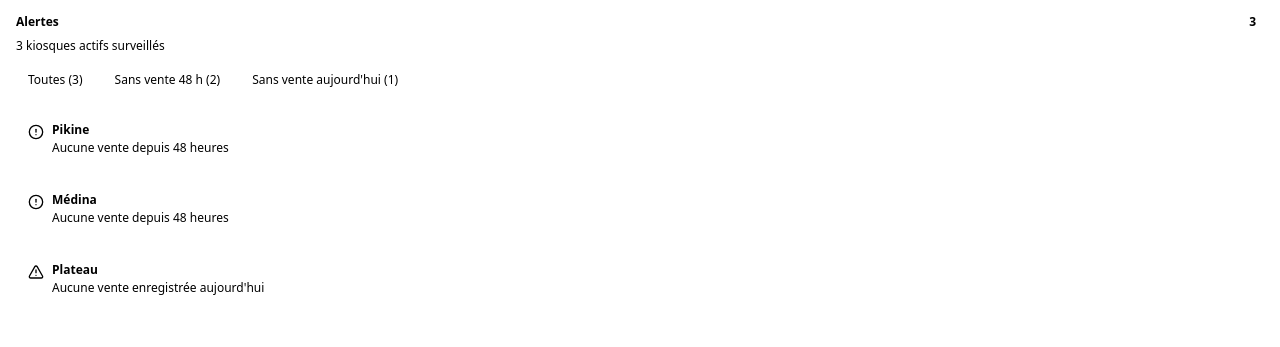
it: AlertsPanel › filtre par règle existante
expect the number of list items is 3: met, box [15,121,229,190]; [15,191,229,260]; [15,261,264,330]
Click the button "Sans vente aujourd'hui (1)" at (325, 80), box [240,62,410,98]
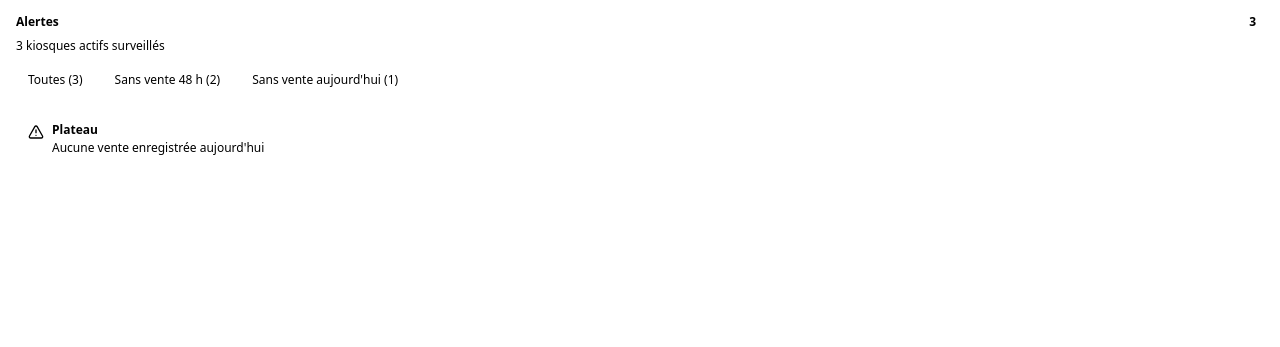
expect the list item shows "Plateau": met, box [16,110,1264,168]
expect the number of list items is 1: met, box [15,121,264,190]
Click the button "Sans vente 48 h (2)" at (167, 80), box [103,62,232,98]
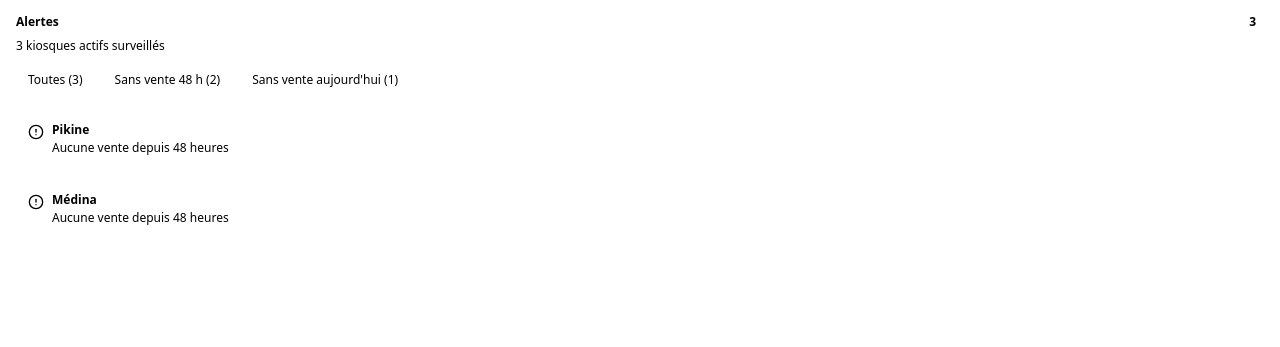
expect the number of list items is 2: met, box [15,121,229,190]; [15,191,229,260]
Click the button "Toutes (3)" at (55, 80), box [16,62,95,98]
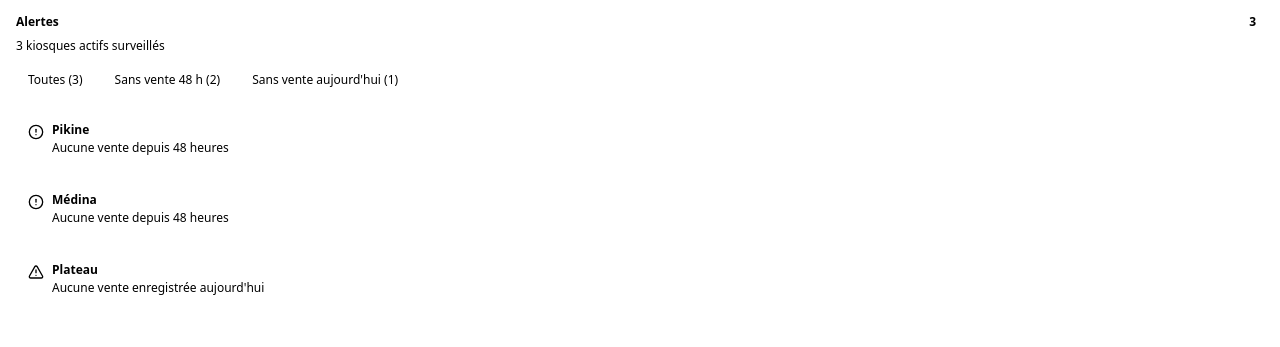
expect the number of list items is 3: met, box [15,121,229,190]; [15,191,229,260]; [15,261,264,330]
